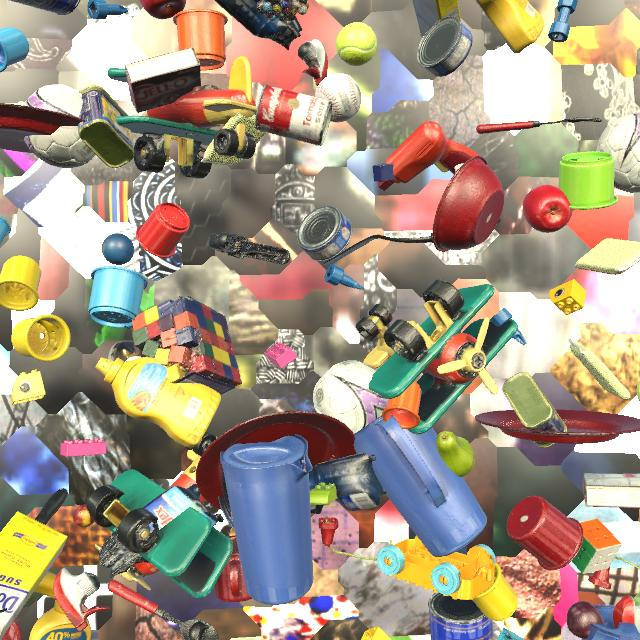ycb_002_master_chef_can: (428, 592, 493, 640), (10, 0, 81, 15)
ycb_004_sugar_box: (0, 511, 68, 640), (412, 0, 461, 37)
ycb_005_tomato_soup_can: (255, 84, 333, 146)
ycb_006_mustard_bottle: (96, 357, 221, 448), (476, 0, 544, 54), (29, 600, 91, 640)
ycb_007_tuna_fish_can: (417, 16, 473, 77), (297, 206, 352, 261)
ycb_008_pudding_box: (124, 47, 201, 113), (582, 473, 640, 509)
ycb_010_potted_meat_can: (503, 372, 567, 448), (78, 85, 135, 168)
ycb_011_banana: (34, 571, 57, 599)
ycb_013_apple: (523, 185, 573, 233), (140, 0, 186, 19)
ycb_015_peach: (231, 513, 233, 520)
ycb_016_pear: (436, 431, 475, 477)
ycb_018_plum: (567, 601, 604, 639)
